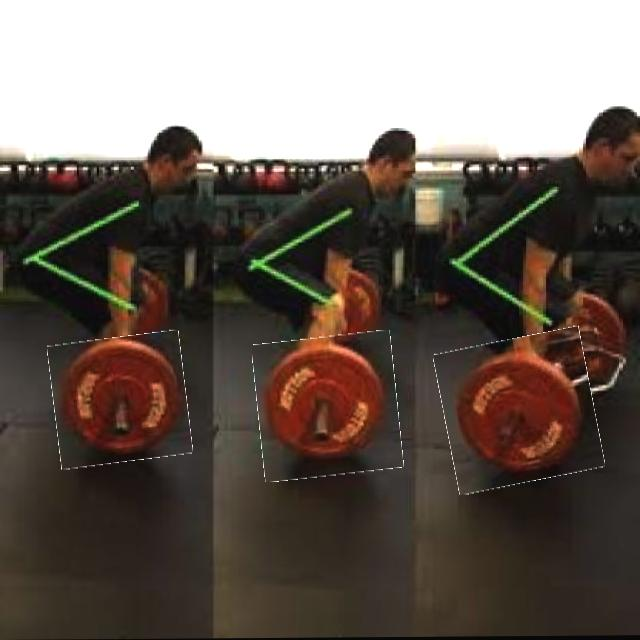barbell: (440, 334, 600, 491), (256, 336, 401, 481), (51, 335, 191, 468)
